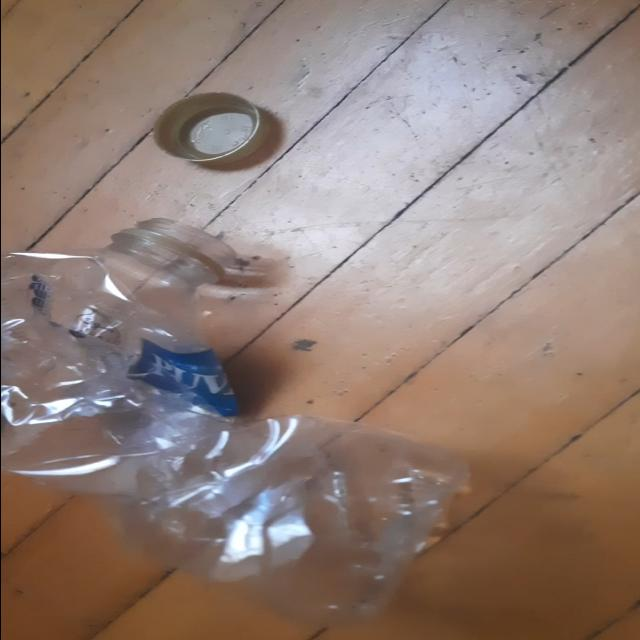Plastic: (3, 220, 473, 626)
